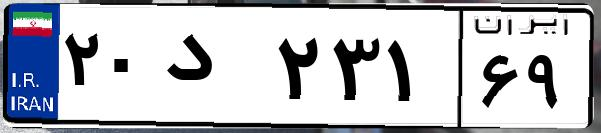0: (110, 28, 158, 98)
1: (385, 28, 445, 110)
2: (270, 28, 330, 110), (57, 26, 110, 100)
3: (330, 28, 385, 110)
6: (475, 38, 525, 113)
9: (525, 38, 570, 115)
د: (158, 20, 270, 120)
